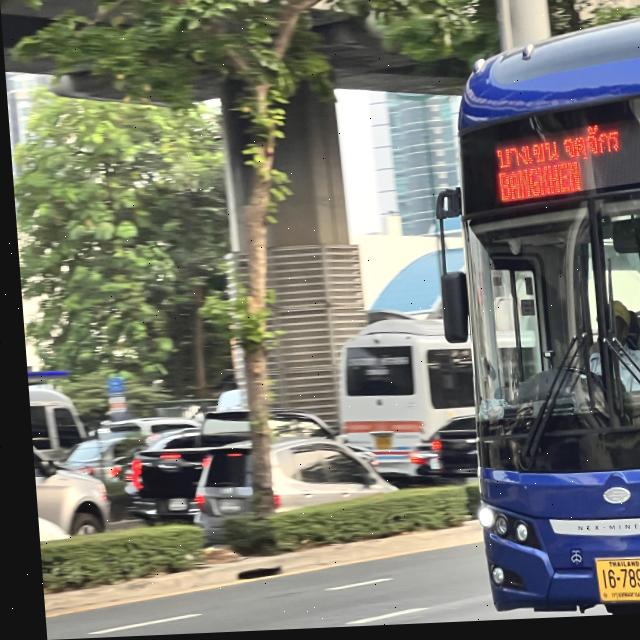Destination Sign: (485, 125, 622, 214)
TSB-Bus: (430, 11, 640, 625)
